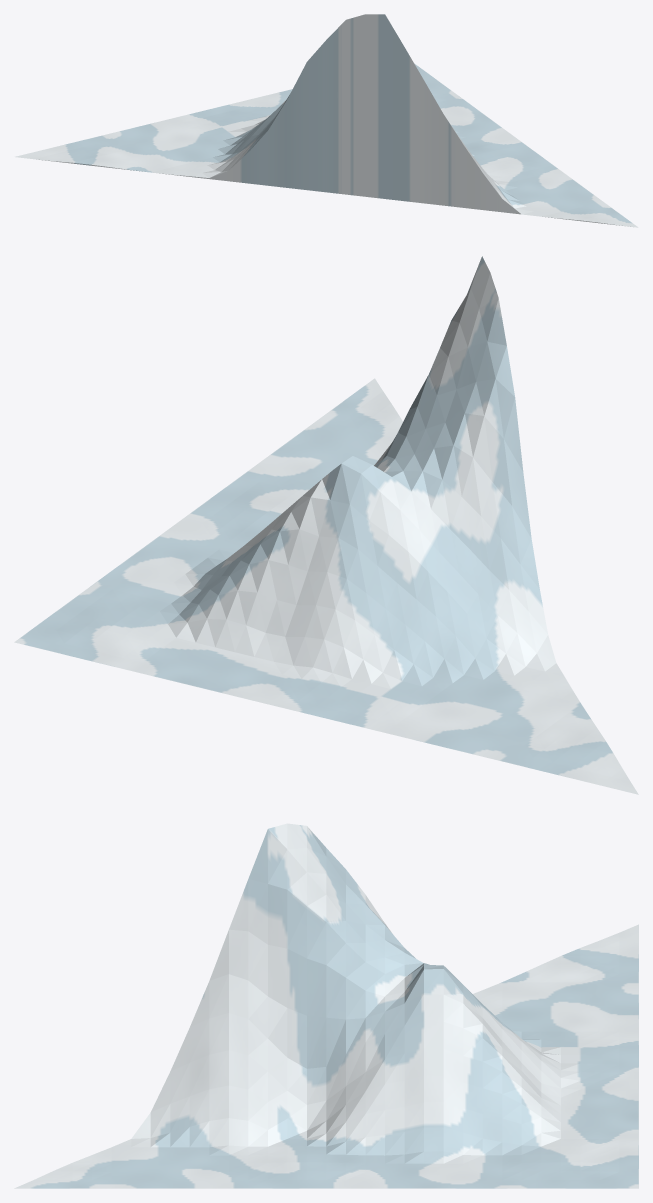
The model's file is Snow_Mountains_08_SE.obj.
The picture shows the model from 3 angles, top to bottom: view 1: azimuth 30°, elevation 25°; view 2: azimuth 150°, elevation 25°; view 3: azimuth 270°, elevation 25°; orthographic projection. The views are drawn at different scales.
Bounding box in the file's own units: 10 × 4.46 × 10.
Materials: 1 (1 with a texture image).
